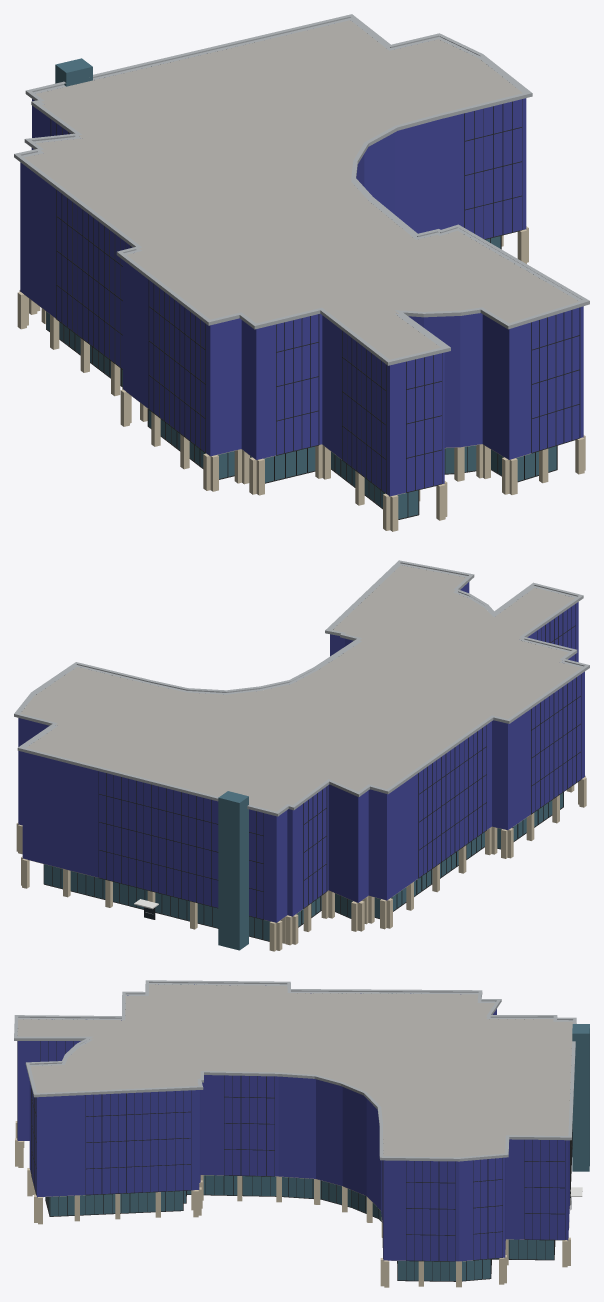
The model's file is natural_science_and_engineering_research_lab.glb.
The picture shows the model from 3 angles, top to bottom: view 1: azimuth 30°, elevation 25°; view 2: azimuth 150°, elevation 25°; view 3: azimuth 270°, elevation 25°; orthographic projection. The views are drawn at different scales.
Parts seen in each view (by area): view 1: natural_science_and_engineering_research_lab_Roof_Membrane, natural_science_and_engineering_research_lab_Wall_violetTile, natural_science_and_engineering_research_lab_Frame_Dark, natural_science_and_engineering_research_lab_Metal_Cornice, natural_science_and_engineering_research_lab_Wall_limestone, natural_science_and_engineering_research_lab_Glass_teal; view 2: natural_science_and_engineering_research_lab_Roof_Membrane, natural_science_and_engineering_research_lab_Wall_violetTile, natural_science_and_engineering_research_lab_Glass_teal, natural_science_and_engineering_research_lab_Frame_Dark, natural_science_and_engineering_research_lab_Metal_Cornice, natural_science_and_engineering_research_lab_Wall_limestone; view 3: natural_science_and_engineering_research_lab_Roof_Membrane, natural_science_and_engineering_research_lab_Wall_violetTile, natural_science_and_engineering_research_lab_Glass_teal, natural_science_and_engineering_research_lab_Frame_Dark, natural_science_and_engineering_research_lab_Metal_Cornice, natural_science_and_engineering_research_lab_Wall_limestone.
Part boxes in pixels (left/top/right/bottom): natural_science_and_engineering_research_lab_Roof_Membrane: left=24, top=20, right=579, bottom=359; natural_science_and_engineering_research_lab_Wall_violetTile: left=20, top=98, right=583, bottom=496; natural_science_and_engineering_research_lab_Frame_Dark: left=46, top=33, right=580, bottom=519; natural_science_and_engineering_research_lab_Metal_Cornice: left=14, top=14, right=589, bottom=365; natural_science_and_engineering_research_lab_Wall_limestone: left=17, top=226, right=585, bottom=531; natural_science_and_engineering_research_lab_Glass_teal: left=46, top=58, right=556, bottom=518; natural_science_and_engineering_research_lab_Roof_Membrane: left=20, top=565, right=581, bottom=811; natural_science_and_engineering_research_lab_Wall_violetTile: left=18, top=582, right=584, bottom=922; natural_science_and_engineering_research_lab_Glass_teal: left=44, top=791, right=563, bottom=950; natural_science_and_engineering_research_lab_Frame_Dark: left=24, top=592, right=581, bottom=941; natural_science_and_engineering_research_lab_Metal_Cornice: left=14, top=560, right=589, bottom=816; natural_science_and_engineering_research_lab_Wall_limestone: left=16, top=775, right=586, bottom=951; natural_science_and_engineering_research_lab_Roof_Membrane: left=17, top=984, right=572, bottom=1157; natural_science_and_engineering_research_lab_Wall_violetTile: left=17, top=984, right=569, bottom=1261; natural_science_and_engineering_research_lab_Glass_teal: left=38, top=984, right=589, bottom=1280; natural_science_and_engineering_research_lab_Frame_Dark: left=17, top=1009, right=572, bottom=1281; natural_science_and_engineering_research_lab_Metal_Cornice: left=14, top=980, right=576, bottom=1161; natural_science_and_engineering_research_lab_Wall_limestone: left=15, top=1121, right=570, bottom=1287.
Size of the model in its own units: 73.25 by 26.44 by 99.84.
